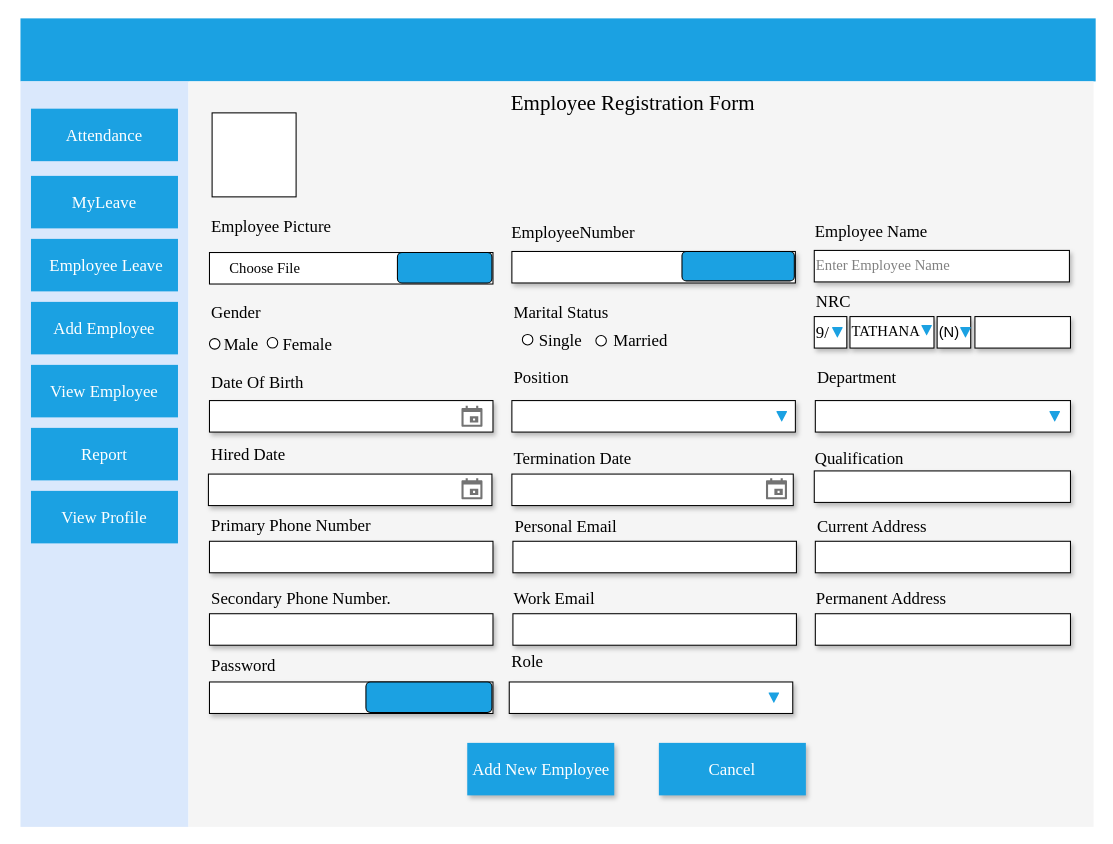
Some shapes in this 1113 by 844 pixel diagram are drawn without their labels. The centre of each missing label's shape, as x and y in pixels:
"Auto Genaerate" goes at point 737,265.
"Auto Generate" goes at point 428,696.
"Browse" goes at point 444,267.
"Human Resource Management System" goes at point 557,49.
